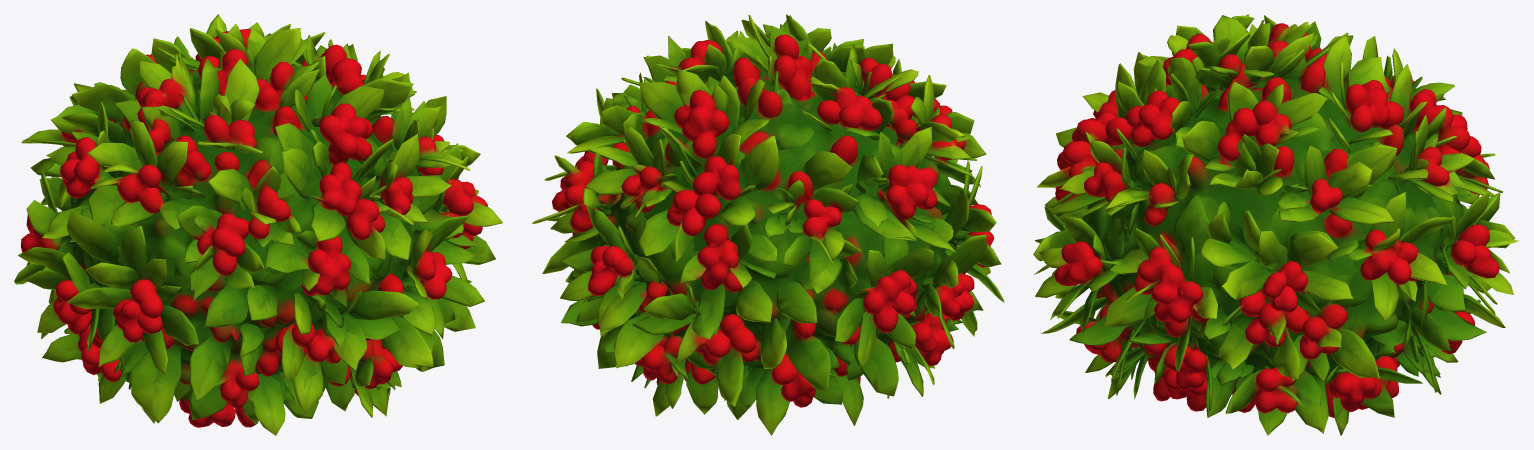
The model's file is bush_holly.glb.
The picture shows the model from 3 angles, left to right: view 1: azimuth 30°, elevation 25°; view 2: azimuth 150°, elevation 25°; view 3: azimuth 270°, elevation 25°; orthographic projection. The views are drawn at different scales.
Parts seen in each view (by area): view 1: tripo_node_b5307874-c6f6-4a91-8210-03721b882229; view 2: tripo_node_b5307874-c6f6-4a91-8210-03721b882229; view 3: tripo_node_b5307874-c6f6-4a91-8210-03721b882229.
Boxes of the visible parts, box(x1,y1,x2,y2) form: tripo_node_b5307874-c6f6-4a91-8210-03721b882229: box(14, 14, 502, 435); tripo_node_b5307874-c6f6-4a91-8210-03721b882229: box(532, 14, 1004, 435); tripo_node_b5307874-c6f6-4a91-8210-03721b882229: box(1033, 14, 1519, 435).
Size of the model in its own units: 1.01 by 0.7997 by 0.9968.
1 material, 1 textured.
